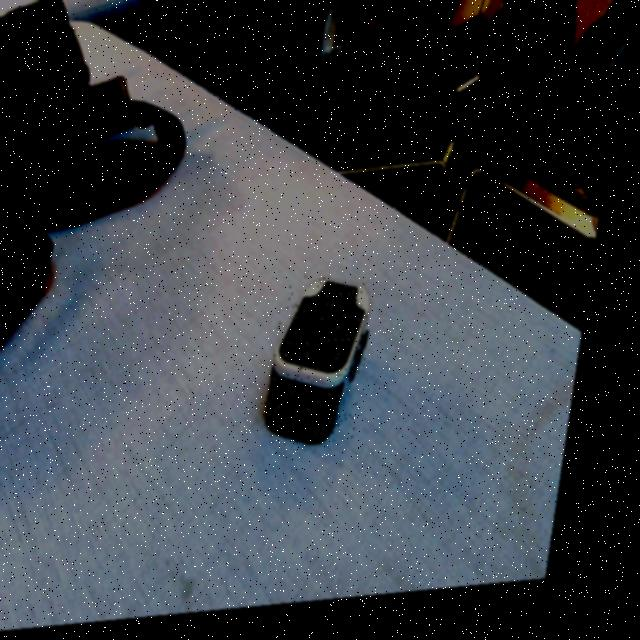adapter: (273, 278, 388, 456)
